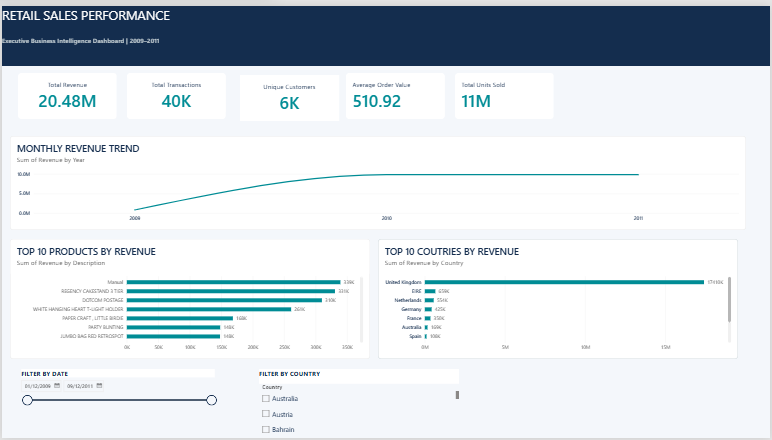

The page's visual inventory and layout, read from the dashboard file:
{"tool":"powerbi","page":{"name":"Page 1","canvas":[1920,1080],"ordinal":0},"visuals":[{"type":"cardVisual","title":"3. TOTAL REVENUE (£).","fields":{"Data":["online_retail_cleaned.Total Revenue"]},"box":[40,168.3,247.6,115.2],"z":0},{"type":"shape","box":[0,0,1920,150],"z":1000},{"type":"cardVisual","fields":{"Data":["online_retail_cleaned.Total Transactions"]},"box":[313.1,168.3,247.6,115.2],"z":2000},{"type":"textbox","box":[0,0,1920,68.3],"z":3000},{"type":"cardVisual","fields":{"Data":["online_retail_cleaned.Unique Customers"]},"box":[594.7,173.1,247.6,115.2],"z":4000},{"type":"textbox","box":[0,75,1920,75],"z":5000},{"type":"cardVisual","fields":{"Data":["online_retail_cleaned.Average Order Value"]},"box":[859.3,168.3,247.6,115.2],"z":6000},{"type":"lineChart","title":"MONTHLY REVENUE TREND","fields":{"Category":["online_retail_cleaned.InvoiceDate.Variation.Date Hierarchy.Year","online_retail_cleaned.InvoiceDate.Variation.Date Hierarchy.Quarter","online_retail_cleaned.InvoiceDate.Variation.Date Hierarchy.Month","online_retail_cleaned.InvoiceDate.Variation.Date Hierarchy.Day"],"Y":["Sum(online_retail_cleaned.Revenue)"]},"box":[20,325,1840,235],"z":7000},{"type":"clusteredBarChart","title":"TOP 10 PRODUCTS BY REVENUE","fields":{"Category":["online_retail_cleaned.Description"],"Y":["Sum(online_retail_cleaned.Revenue)"]},"box":[20,583.3,900,300],"z":8000},{"type":"clusteredBarChart","title":"TOP 10 COUTRIES BY REVENUE","fields":{"Category":["online_retail_cleaned.Country"],"Y":["Sum(online_retail_cleaned.Revenue)"]},"box":[940,582.9,900,300],"z":9000},{"type":"slicer","fields":{"Values":["online_retail_cleaned.InvoiceDate"]},"box":[40,906.7,500,150],"z":10000},{"type":"cardVisual","fields":{"Data":["online_retail_cleaned.Total Units Sold"]},"box":[1132.4,168.3,247.6,115.2],"z":11000},{"type":"slicer","title":"FILTER BY COUNTRY","fields":{"Values":["online_retail_cleaned.Country"]},"box":[641.7,906.7,500,173.3],"z":12000}]}

Visuals, with their boxes in screenshot pixels (x1, y1, x2, y2), scaled from the page's 1920x1080 canvas onto the 772x440 screenshot:
"3. TOTAL REVENUE (£)." cardVisual: (x1=16, y1=69, x2=116, y2=116)
shape: (x1=0, y1=0, x2=771, y2=61)
cardVisual - online_retail_cleaned.Total Transactions: (x1=126, y1=69, x2=225, y2=116)
textbox: (x1=0, y1=0, x2=771, y2=28)
cardVisual - online_retail_cleaned.Unique Customers: (x1=239, y1=71, x2=339, y2=117)
textbox: (x1=0, y1=31, x2=771, y2=61)
cardVisual - online_retail_cleaned.Average Order Value: (x1=346, y1=69, x2=445, y2=116)
"MONTHLY REVENUE TREND" lineChart: (x1=8, y1=132, x2=748, y2=228)
"TOP 10 PRODUCTS BY REVENUE" clusteredBarChart: (x1=8, y1=238, x2=370, y2=360)
"TOP 10 COUTRIES BY REVENUE" clusteredBarChart: (x1=378, y1=237, x2=740, y2=360)
slicer - online_retail_cleaned.InvoiceDate: (x1=16, y1=369, x2=217, y2=431)
cardVisual - online_retail_cleaned.Total Units Sold: (x1=455, y1=69, x2=555, y2=116)
"FILTER BY COUNTRY" slicer: (x1=258, y1=369, x2=459, y2=439)
